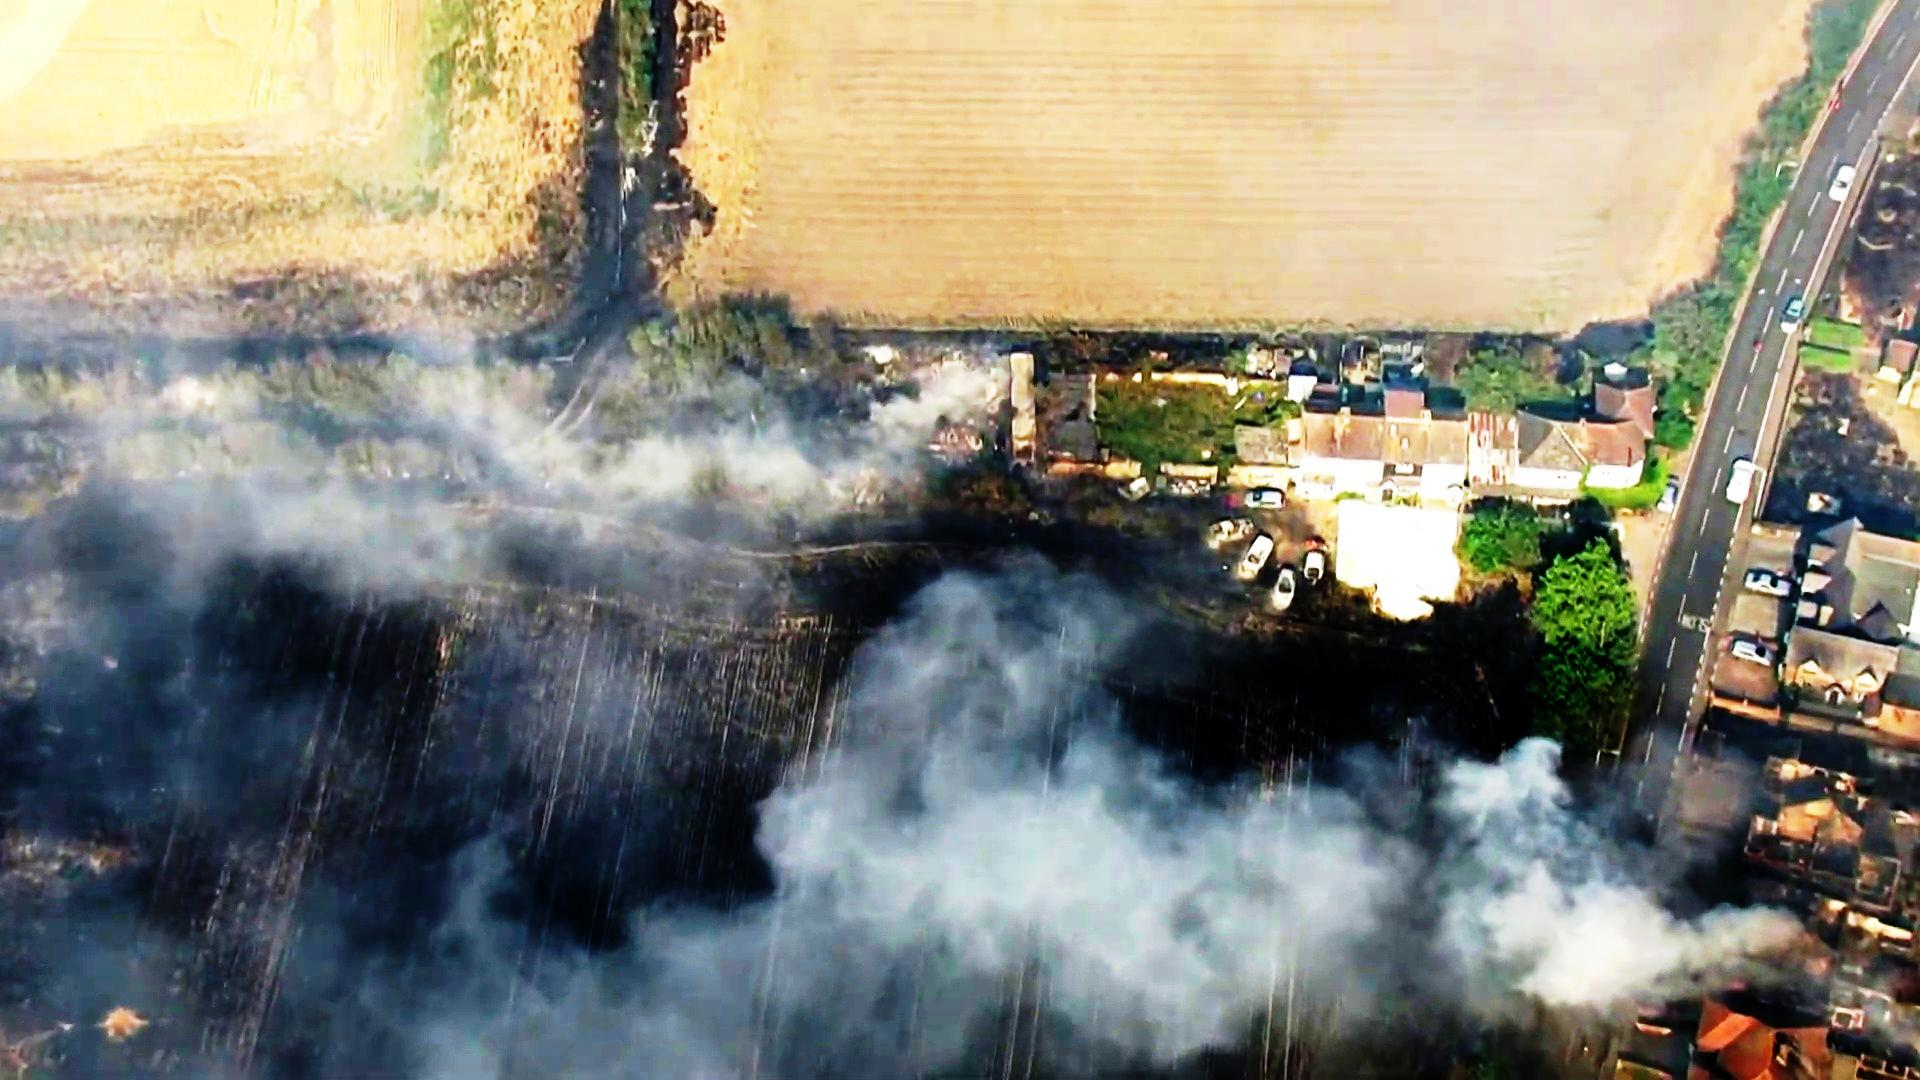smoke: (1440, 742, 1837, 1010), (836, 713, 1172, 963)
